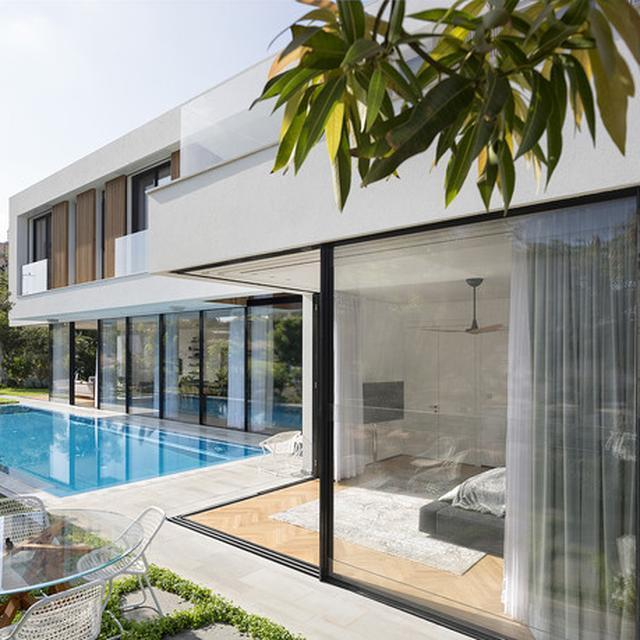building: (9, 29, 640, 640)
